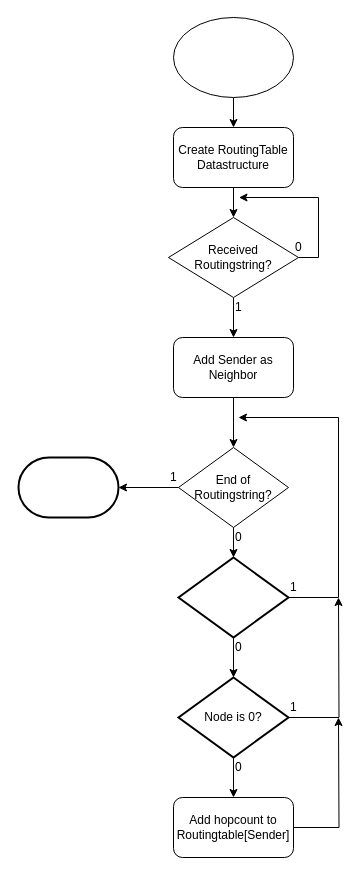
Image size: 364x875. Some labels were removed from this diagram. Here are the shapes that lost their labels. From the top down, the centre of each, then its label:
At point 233,57: "Start".
At point 68,487: "End".
At point 233,597: "Node is me?".
